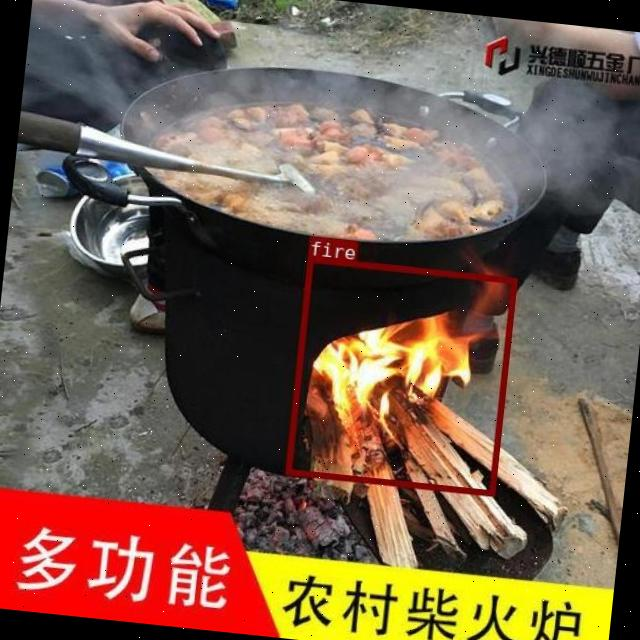fire: (284, 255, 516, 494)
